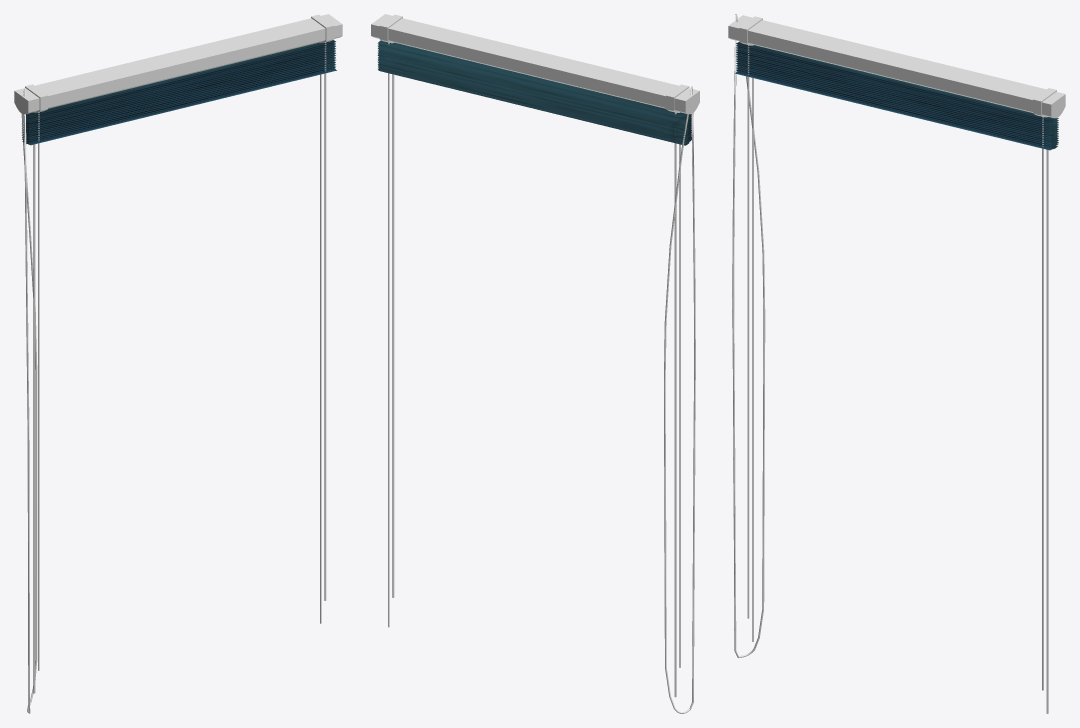
File: new cur.fbx
3 views of the same model, side by side, from view 1: azimuth 30°, elevation 25°; view 2: azimuth 150°, elevation 25°; view 3: azimuth 330°, elevation 25° (orthographic). The views are drawn at different scales.
Visible parts, largest first — view 1: 012, Object606528; view 2: 012, Object606528; view 3: 012, Object606528.
Part boxes in pixels (x1=…): 012: x1=14, y1=14, x2=342, y2=713; Object606528: x1=22, y1=40, x2=336, y2=145; 012: x1=371, y1=14, x2=699, y2=713; Object606528: x1=377, y1=40, x2=691, y2=145; 012: x1=728, y1=14, x2=1065, y2=713; Object606528: x1=735, y1=42, x2=1058, y2=150.
Bounding box in the file's own units: 599 × 1140 × 50.52.
Materials: 2 (1 with a texture image).
